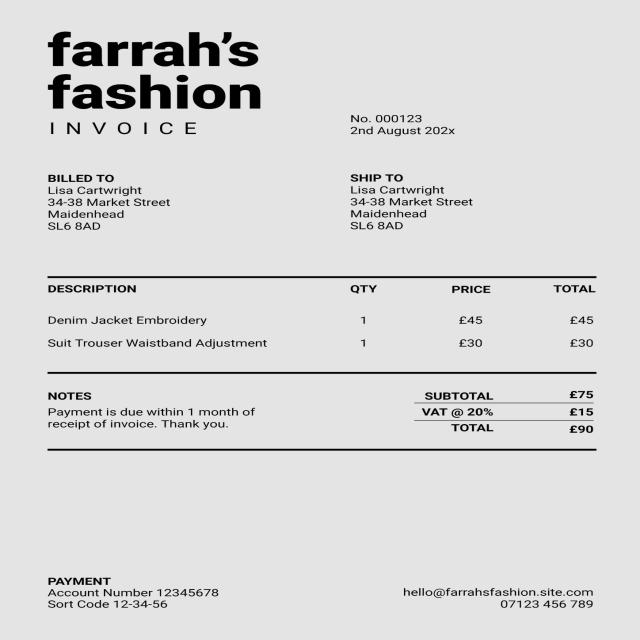paragraph: (34, 22, 270, 140), (402, 381, 604, 450), (44, 384, 270, 435), (339, 161, 486, 237), (32, 566, 244, 618), (36, 164, 185, 236), (394, 572, 608, 620), (338, 107, 464, 140)
table: (32, 273, 606, 369)
